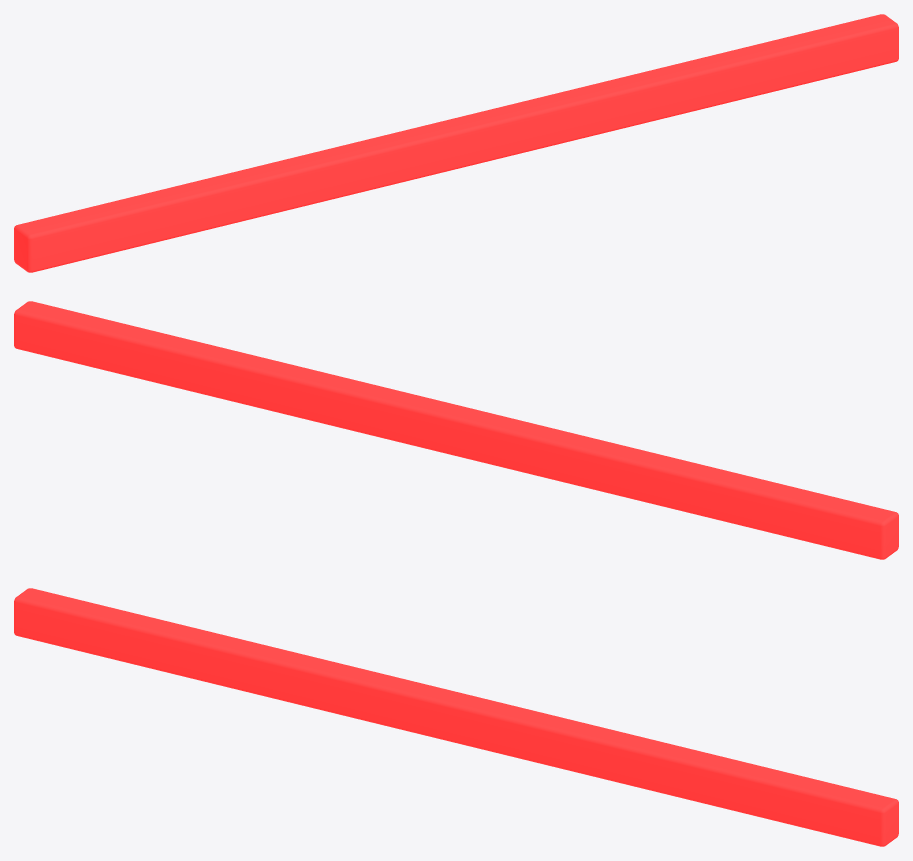
Rendered from GEO_Taillight_Lightbar.glb.
3 views of the same model, one above another, from view 1: azimuth 30°, elevation 25°; view 2: azimuth 150°, elevation 25°; view 3: azimuth 330°, elevation 25° (orthographic).
Visible parts, largest first — view 1: GEO_Taillight_Lightbar; view 2: GEO_Taillight_Lightbar; view 3: GEO_Taillight_Lightbar.
Boxes of the visible parts, <box> form: GEO_Taillight_Lightbar: <box>14,14,898,272</box>; GEO_Taillight_Lightbar: <box>14,301,898,559</box>; GEO_Taillight_Lightbar: <box>14,588,898,846</box>.
Size of the model in its own units: 0.76 by 0.032 by 0.025.
